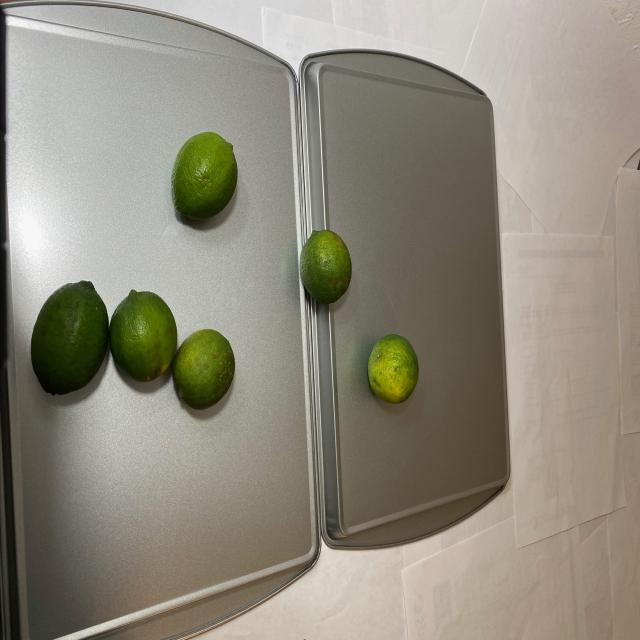lemon: (22, 276, 239, 430), (300, 226, 420, 410), (166, 128, 250, 229)
